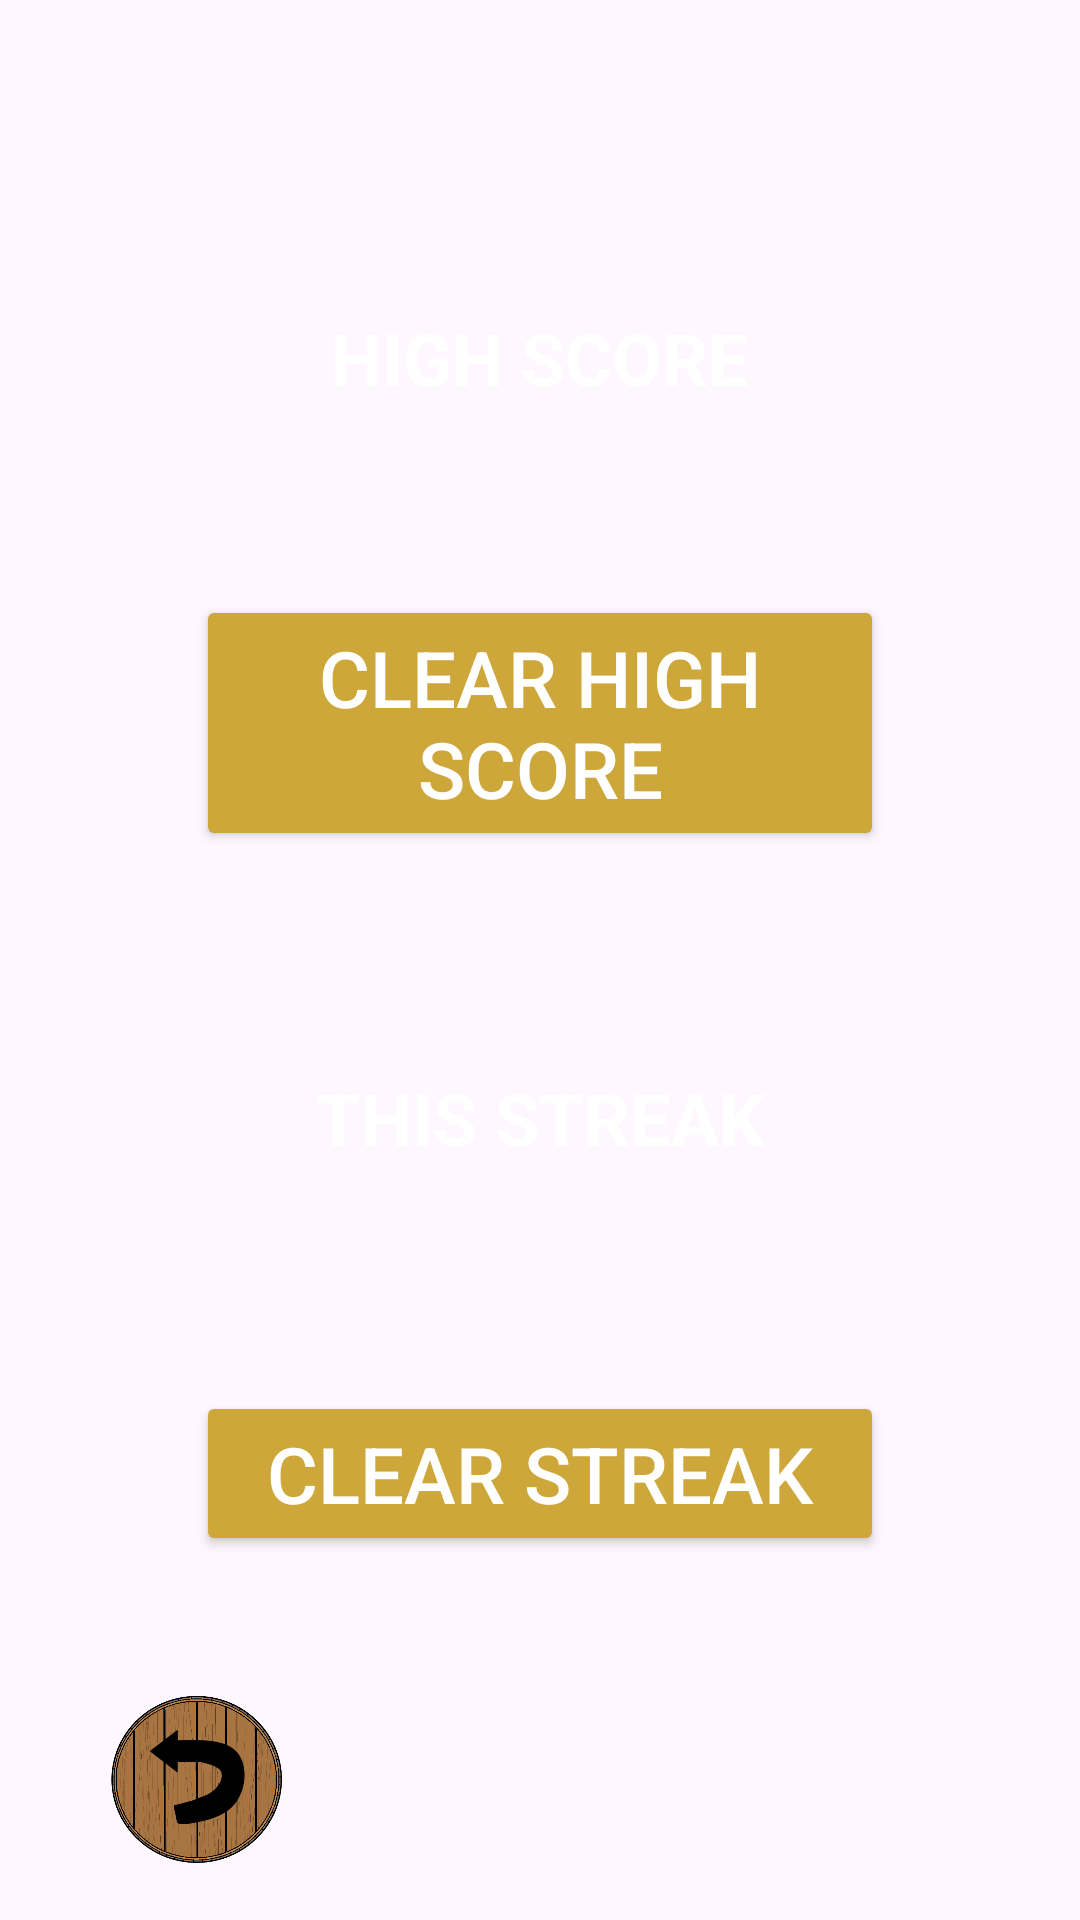

Where to tap for icons on this 1080w x 1920h app screen, as [x,y]:
backbutton: [196,1779]
